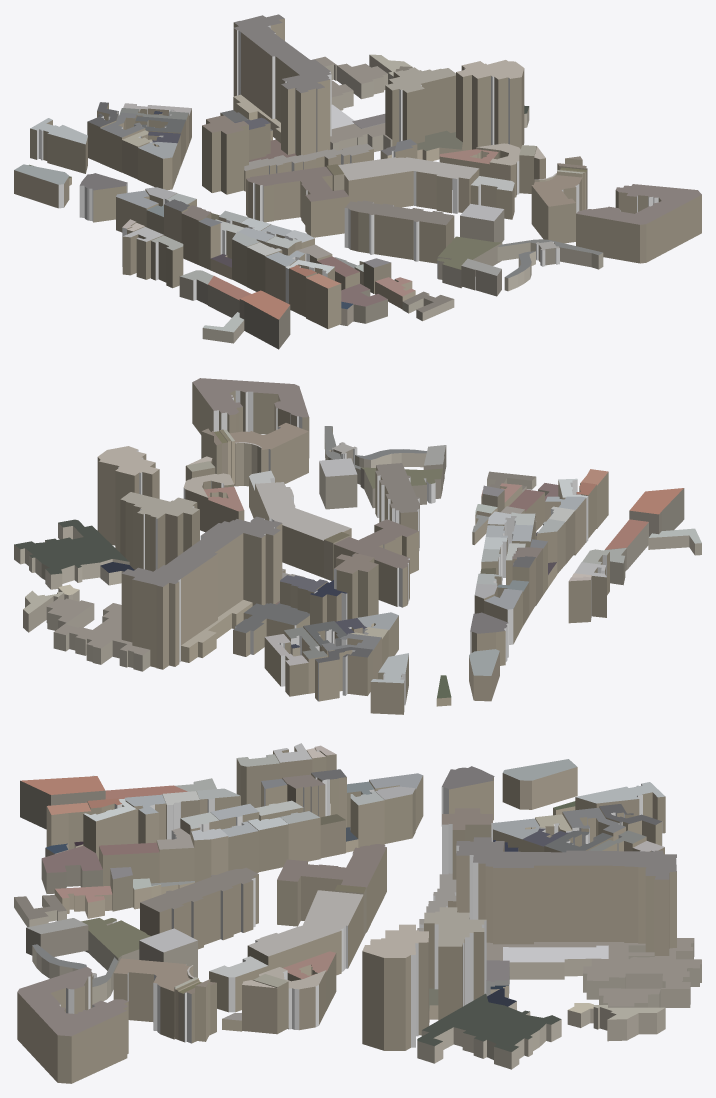
3 views of the same model, one above another, from view 1: azimuth 30°, elevation 25°; view 2: azimuth 150°, elevation 25°; view 3: azimuth 270°, elevation 25° (orthographic). The views are drawn at different scales.
Visible parts, largest first — view 1: tuile; view 2: tuile; view 3: tuile.
Part boxes in pixels (<box>): tuile: <box>14,14,701,349</box>; tuile: <box>14,378,701,714</box>; tuile: <box>14,743,701,1083</box>.
Size of the model in its own units: 292 by 47.31 by 290.
